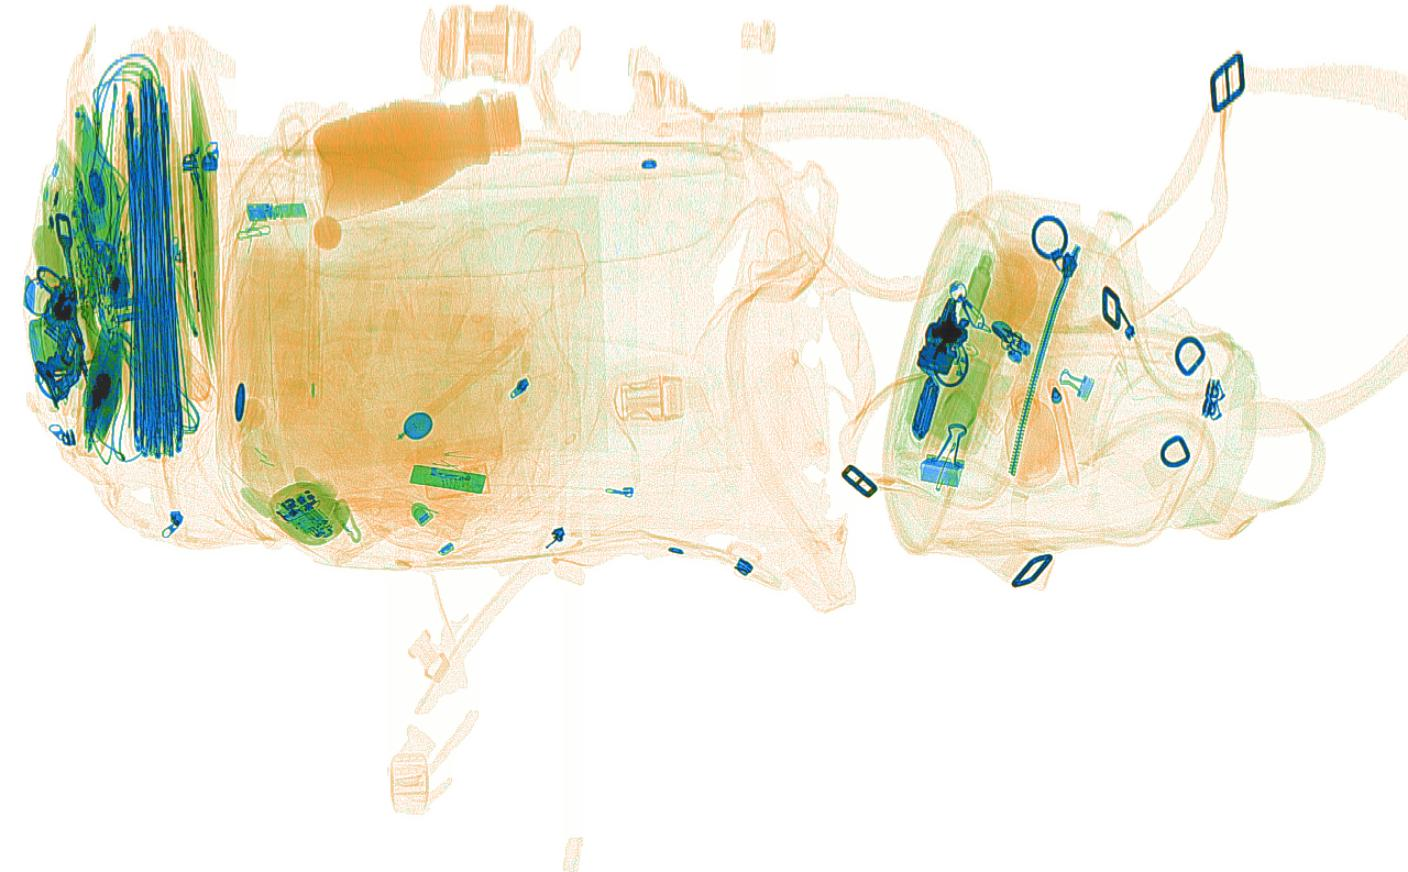USBFlashDisk: (246, 198, 307, 224)
